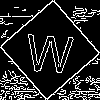W: (25, 25, 75, 74)
